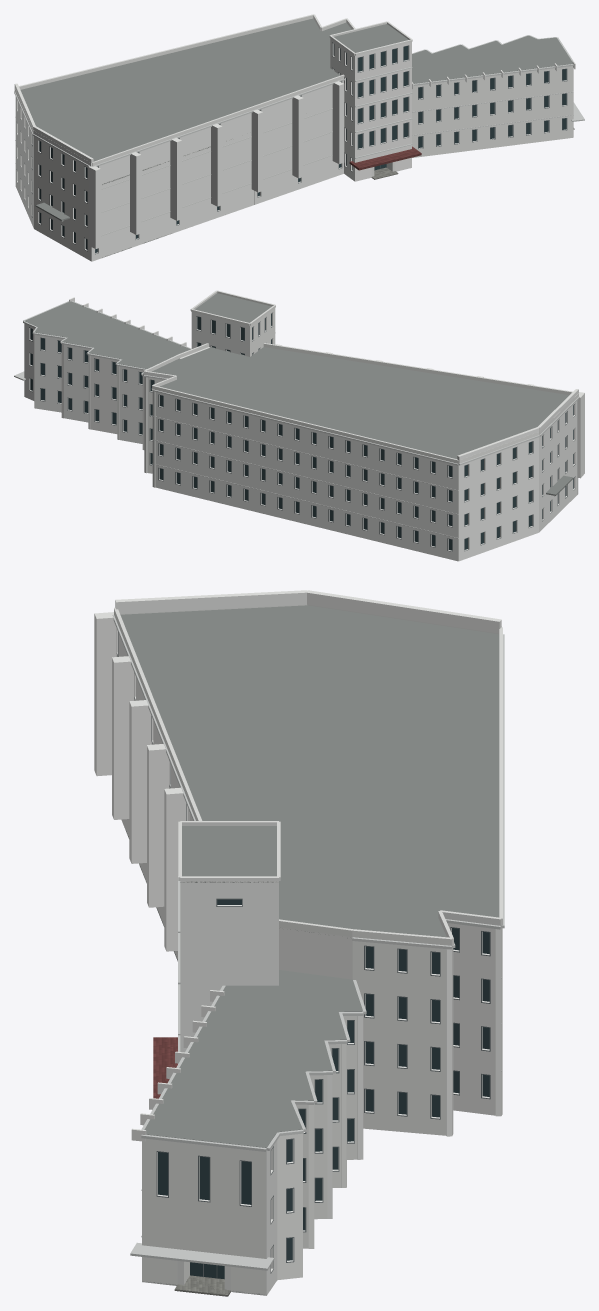
3 renders of one model, top to bottom at view 1: azimuth 30°, elevation 25°; view 2: azimuth 150°, elevation 25°; view 3: azimuth 270°, elevation 25°, orthographic. The views are drawn at different scales.
Parts seen in each view (by area): view 1: koreanEducation__cream, koreanEducation__roof, koreanEducation__stone, koreanEducation__glass, koreanEducation__light, koreanEducation__frame, koreanEducation__salmon; view 2: koreanEducation__cream, koreanEducation__roof, koreanEducation__glass, koreanEducation__frame, koreanEducation__stone, koreanEducation__light; view 3: koreanEducation__roof, koreanEducation__cream, koreanEducation__glass, koreanEducation__stone, koreanEducation__light, koreanEducation__frame, koreanEducation__salmon.
Part boxes in pixels (x1,y1,x2,y2): koreanEducation__cream: (14, 38, 575, 261); koreanEducation__roof: (20, 18, 572, 257); koreanEducation__stone: (14, 14, 412, 176); koreanEducation__glass: (39, 44, 566, 252); koreanEducation__light: (14, 35, 584, 236); koreanEducation__frame: (16, 42, 567, 254); koreanEducation__salmon: (349, 146, 421, 170); koreanEducation__cream: (24, 297, 584, 561); koreanEducation__roof: (25, 293, 573, 495); koreanEducation__glass: (30, 313, 573, 550); koreanEducation__frame: (29, 312, 575, 551); koreanEducation__stone: (143, 290, 578, 463); koreanEducation__light: (14, 301, 579, 538); koreanEducation__roof: (120, 605, 499, 1295); koreanEducation__cream: (94, 590, 502, 1295); koreanEducation__glass: (158, 899, 489, 1279); koreanEducation__stone: (114, 604, 502, 1290); koreanEducation__light: (112, 614, 504, 1270); koreanEducation__frame: (116, 632, 490, 1278); koreanEducation__salmon: (153, 1037, 177, 1098).
Size of the model in its own units: 93.02 by 21.52 by 31.19.
Materials: 8 (2 with a texture image).
